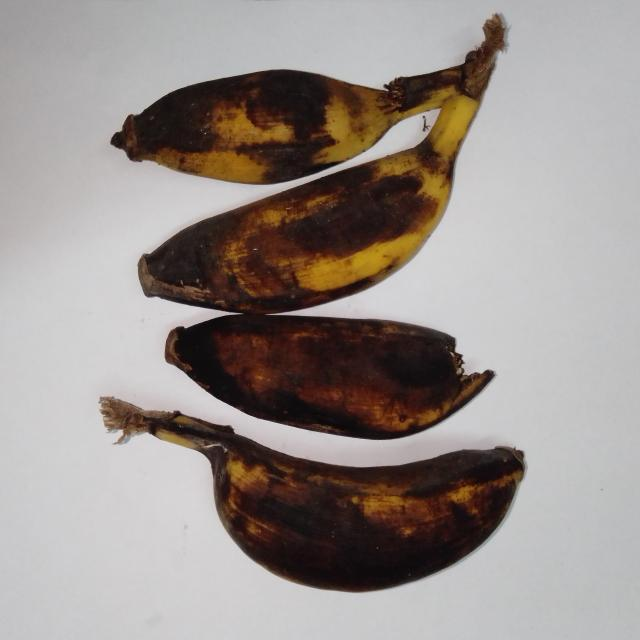banana: (139, 15, 504, 313), (101, 398, 523, 591), (112, 65, 464, 183), (166, 315, 494, 439)
